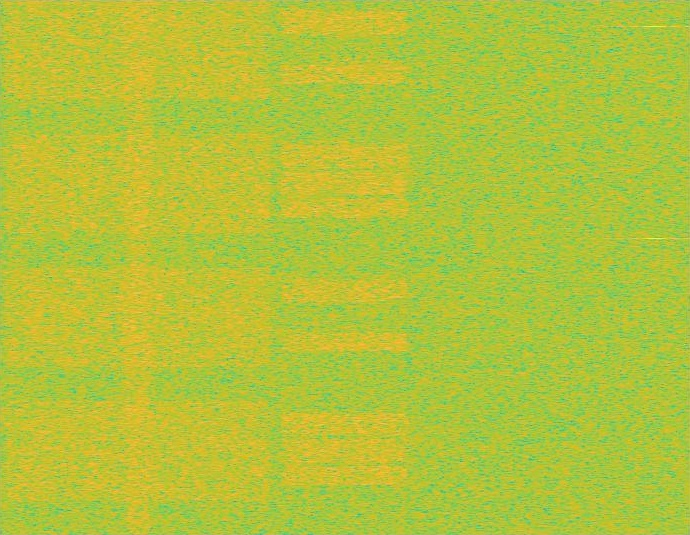5G: (0, 0, 276, 534)
DSSS: (119, 0, 157, 534)
LTE: (276, 0, 414, 534)
Radar: (648, 0, 661, 534)
